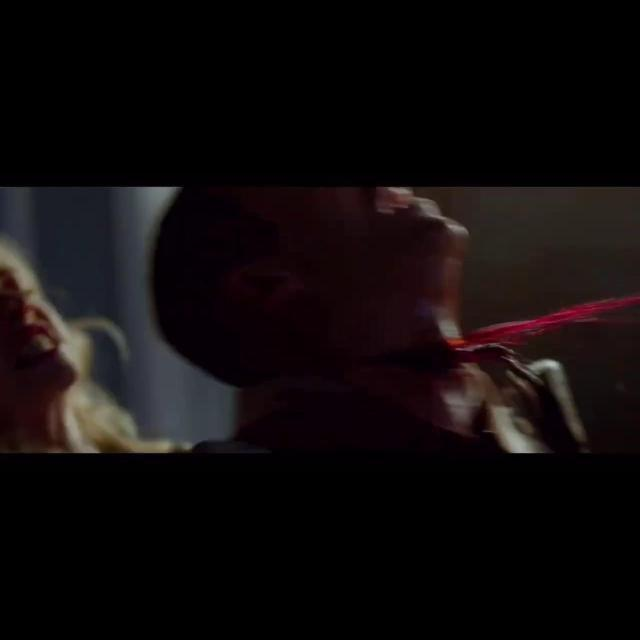blood: (358, 296, 640, 382)
